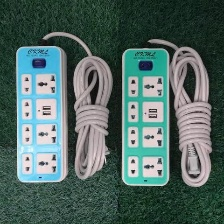three_eye_plug: (14, 43, 72, 184), (118, 45, 172, 189)
